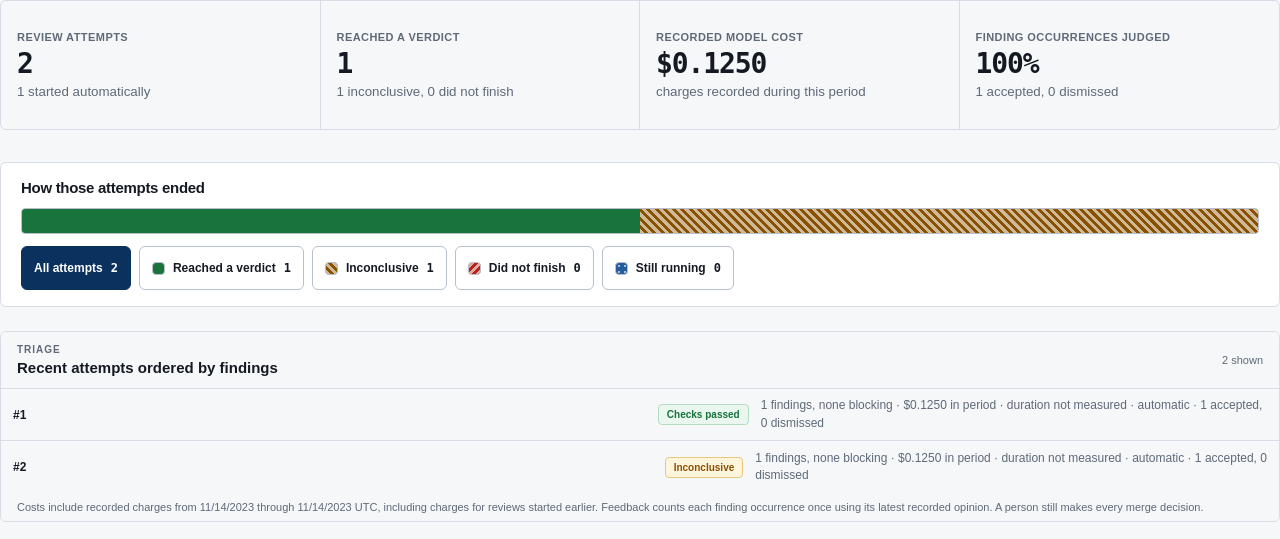
truthful history figures › turns a share of the bar into the rows it counts
Expected: the text "#1" is shown, [13,408,26,422]
Click the button "Inconclusive 1" at point(379, 268), box [312,246,447,290]
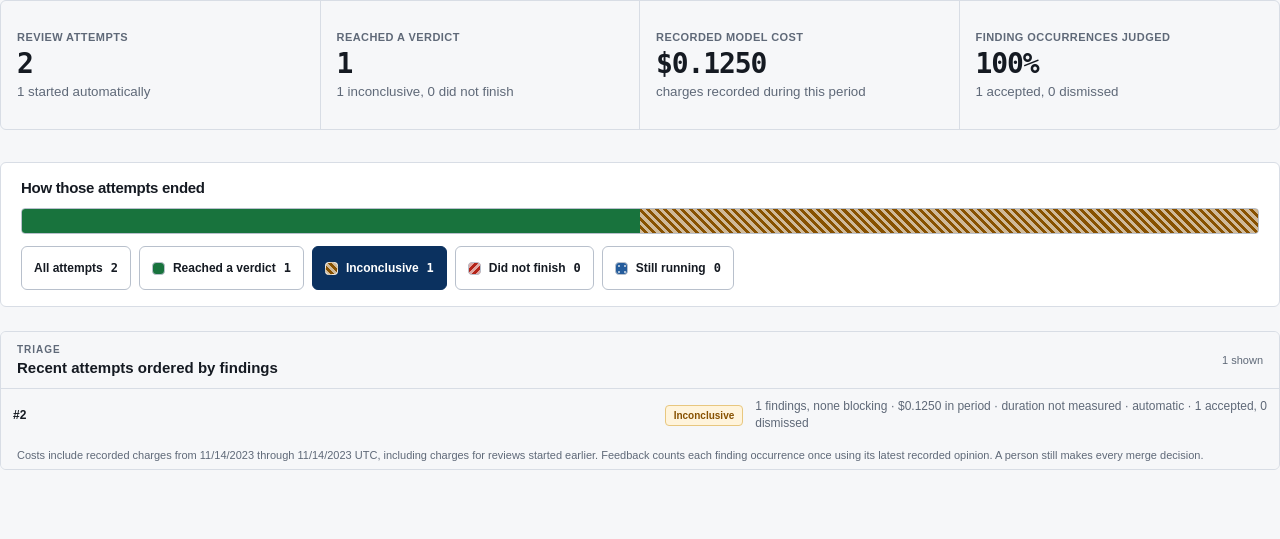
Expected: the text "#2" is shown, [13,408,26,422]
Expected: the text "#1" is gone
Click the button "All attempts 2" at point(76, 268), box [21,246,131,290]
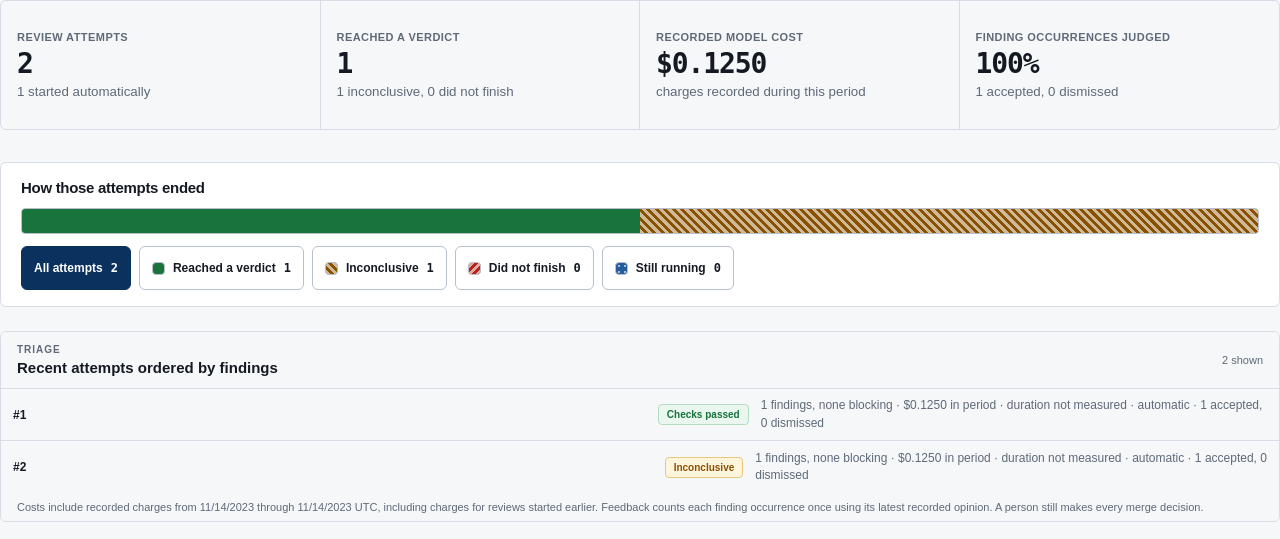
Expected: the text "#1" is shown, [13,408,26,422]
